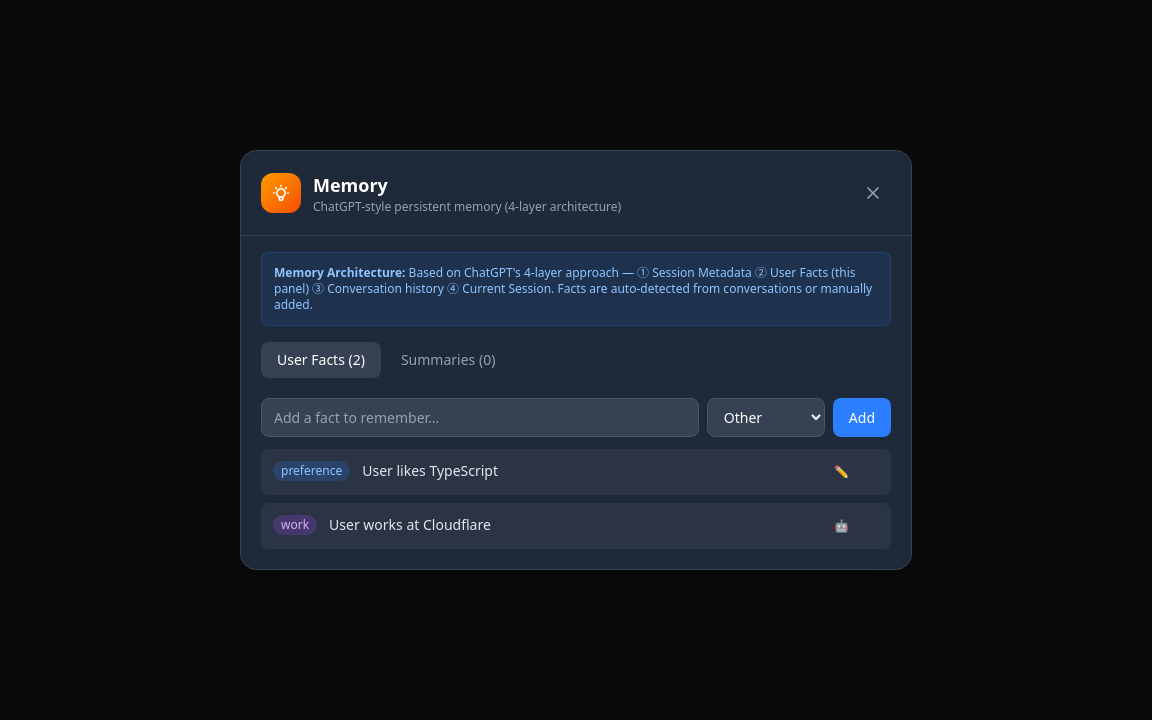
Test case: MemoryPanel › should show empty state when no summaries
What coordinates should you click on to do the following:
click the button "Summaries (0)"
I would click on:
 (448, 360)
Its box is [385, 342, 511, 378].
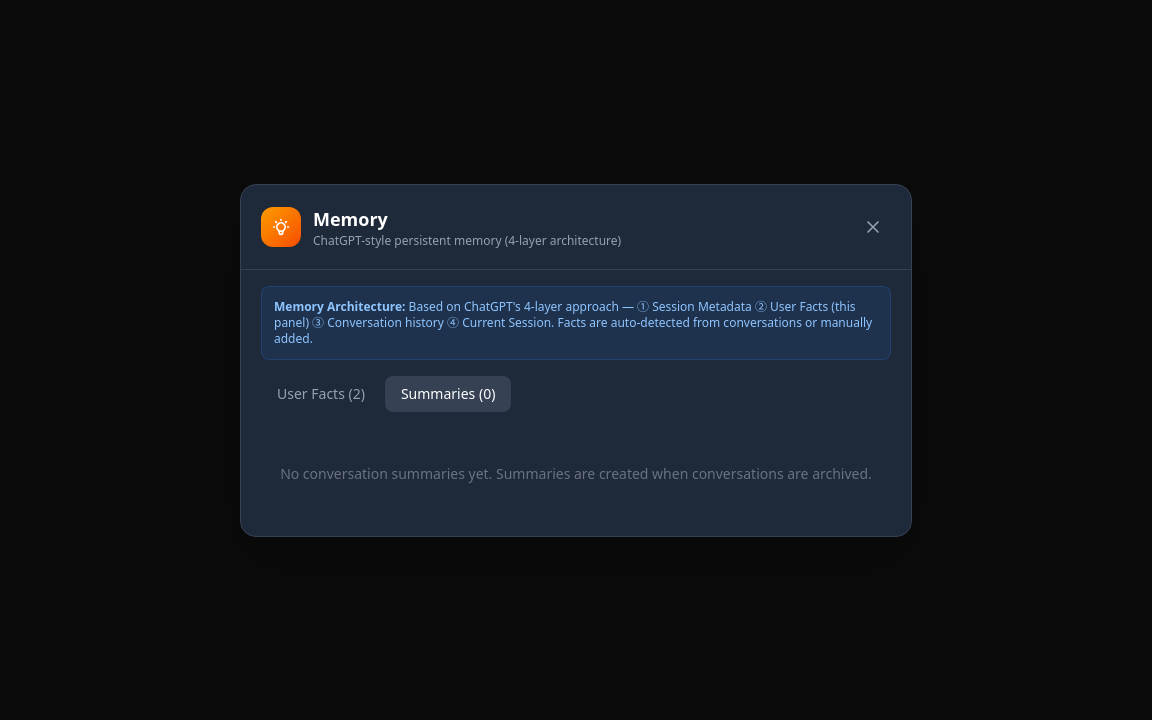
Result: the text "No conversation summaries yet" is shown at [280, 464, 872, 482]
